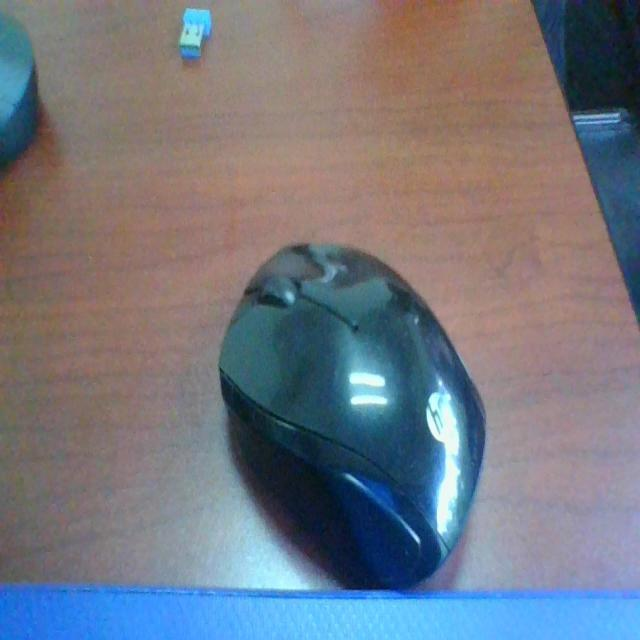mouse: (218, 220, 498, 592)
